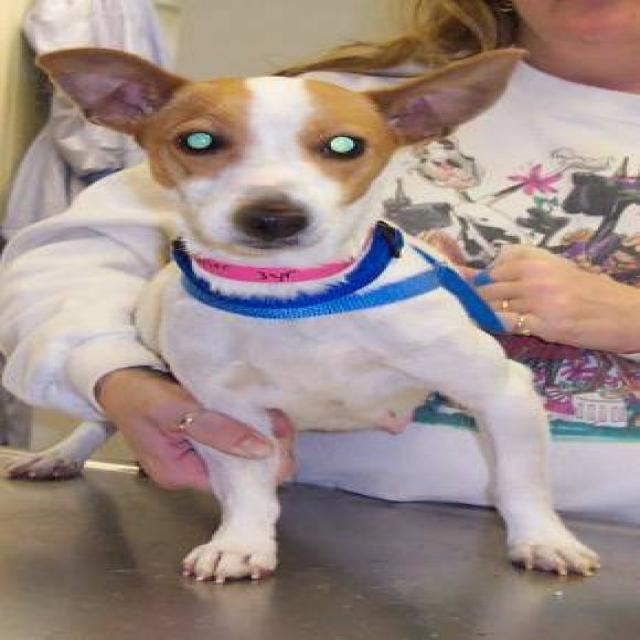Dog: (25, 36, 520, 278)
